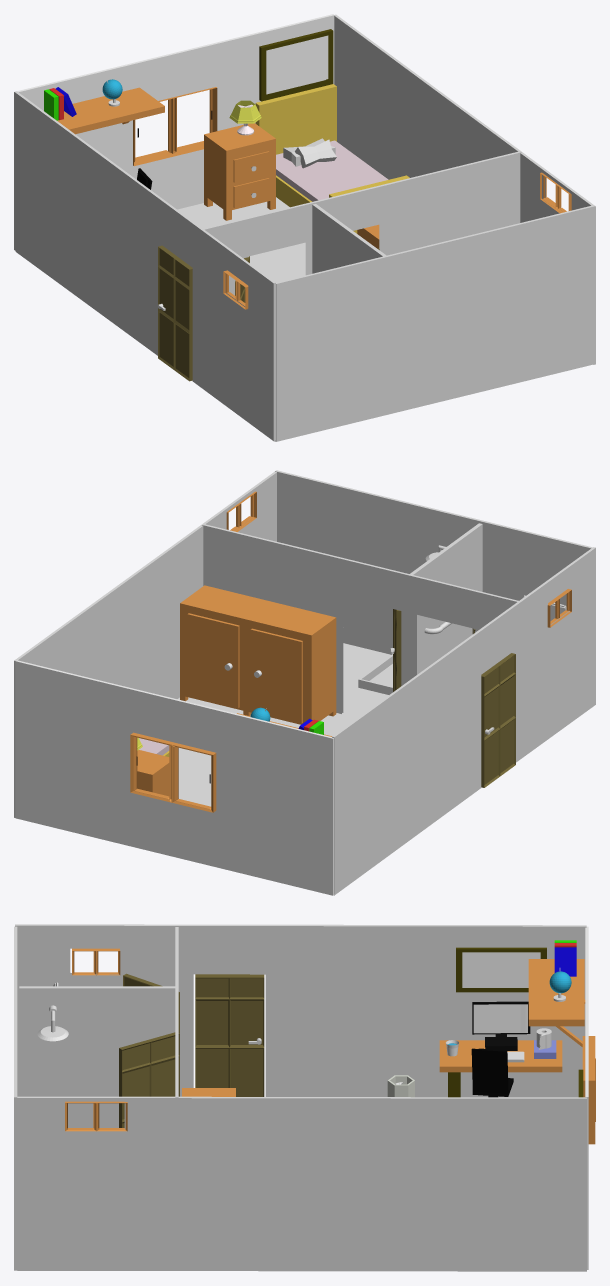
File: BTL_export.glb
3 renders of one model, top to bottom at view 1: azimuth 30°, elevation 25°; view 2: azimuth 150°, elevation 25°; view 3: azimuth 270°, elevation 25°, orthographic. The views are drawn at different scales.
Parts seen in each view (by area): view 1: Cube.025, Cube.026, Cube.028, Cube.029, Cube.027, Cube.037, Cube.005, Cube.011, Cube.013, Cube.024, 1513333034_tuyết_đẹp, Cube.036 (+6 smaller); view 2: Cube.027, Cube.026, Cube.025, Cube.038, Cube.028, Cube.029, Cube.024, Cube.036, Cube.011, Cube.002, Cube.037, Cube.022 (+1 smaller); view 3: Cube.028, Cube.026, Cube.036, Cube.011, Cube.017, Cube.009, 2_7, Cube.006, Cube.008, 1_8, Cube.015, Cube.002 (+11 smaller).
Part boxes in pixels (x1,y1,x2,y2): Cube.025: (275,205,595,441); Cube.026: (14,91,275,441); Cube.028: (334,14,595,364); Cube.029: (203,151,521,295); Cube.027: (14,14,334,250); Cube.037: (204,123,275,220); Cube.005: (255,84,409,233); Cube.011: (158,245,192,381); Cube.013: (276,140,388,201); Cube.024: (15,197,305,441); 1513333034_tuyết_đẹp: (266,35,328,93); Cube.036: (312,204,386,273); Cube.027: (15,660,334,895); Cube.026: (332,547,595,894); Cube.025: (275,470,592,654); Cube.038: (180,585,336,724); Cube.028: (14,471,276,817); Cube.029: (202,524,518,713); Cube.024: (177,643,480,895); Cube.036: (410,523,482,674); Cube.011: (481,653,515,787); Cube.002: (130,732,216,812); Cube.037: (137,750,169,796); Cube.022: (358,654,392,694); Cube.028: (14,1096,586,1271); Cube.026: (15,924,586,1097); Cube.036: (19,986,175,1128); Cube.011: (195,974,264,1096); Cube.017: (119,1032,179,1127); Cube.009: (528,959,585,1046); 2_7: (462,952,540,987); Cube.006: (439,1040,562,1072); Cube.008: (471,1048,513,1097); 1_8: (473,1004,527,1033); Cube.015: (456,947,546,992); Cube.002: (582,1036,595,1144).
Size of the model in its own units: 33.49 by 15.62 by 46.91.
71 materials, 2 textured.
